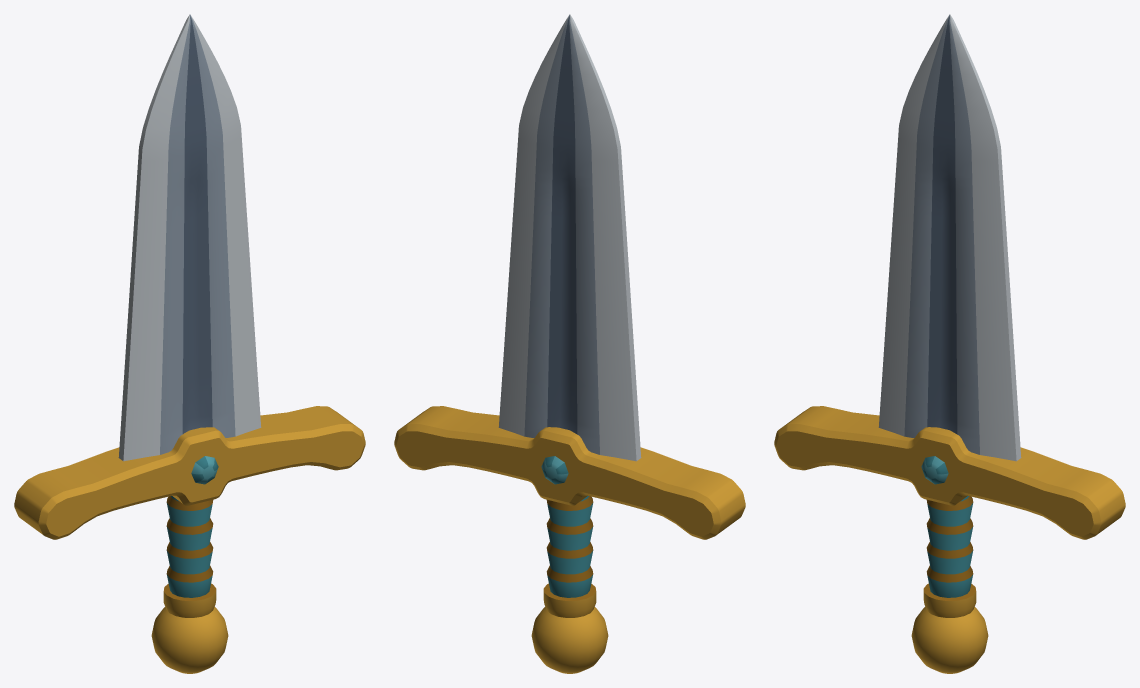
Rendered from Broadsword_15.glb.
3 views of the same model, side by side, from view 1: azimuth 30°, elevation 25°; view 2: azimuth 150°, elevation 25°; view 3: azimuth 330°, elevation 25° (orthographic).
Visible parts, largest first — view 1: Broadsword_15; view 2: Broadsword_15; view 3: Broadsword_15.
Part boxes in pixels (x1,y1,x2,y2): Broadsword_15: [14, 14, 365, 673]; Broadsword_15: [394, 14, 745, 673]; Broadsword_15: [774, 14, 1125, 673].
Size of the model in its own units: 3.03 by 5.8 by 0.616.
